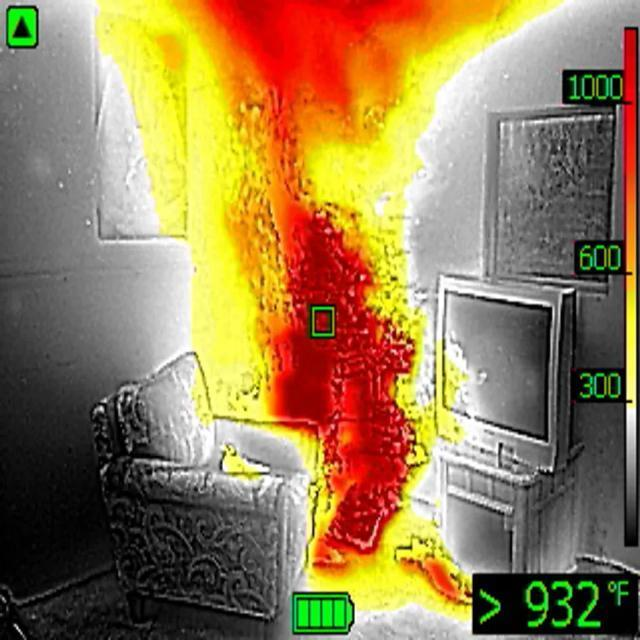fire: (199, 1, 452, 579)
